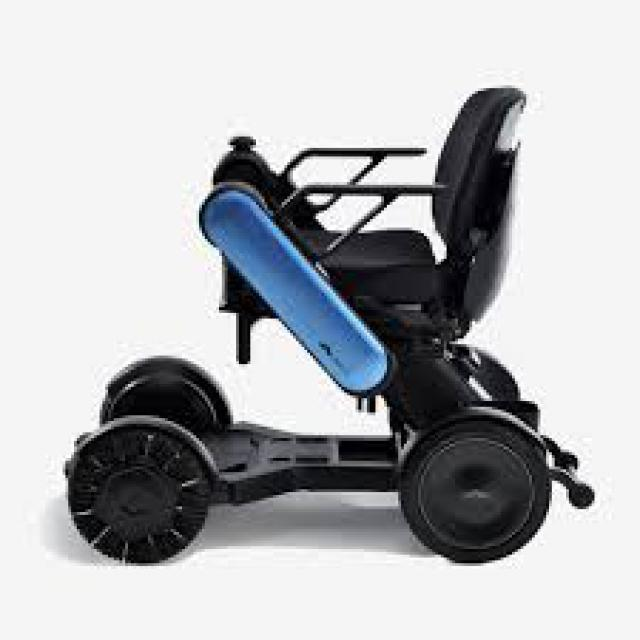wheelchair: (57, 68, 598, 618)
